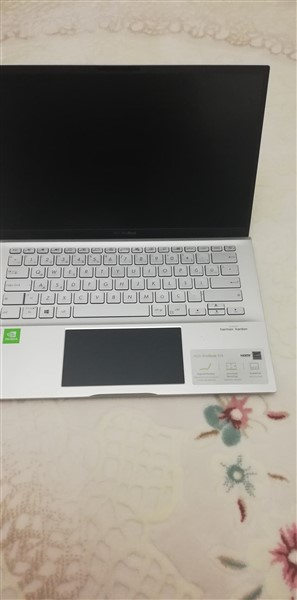laptop: (1, 56, 278, 403)
